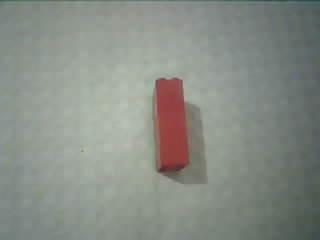lego: (151, 77, 190, 170)
